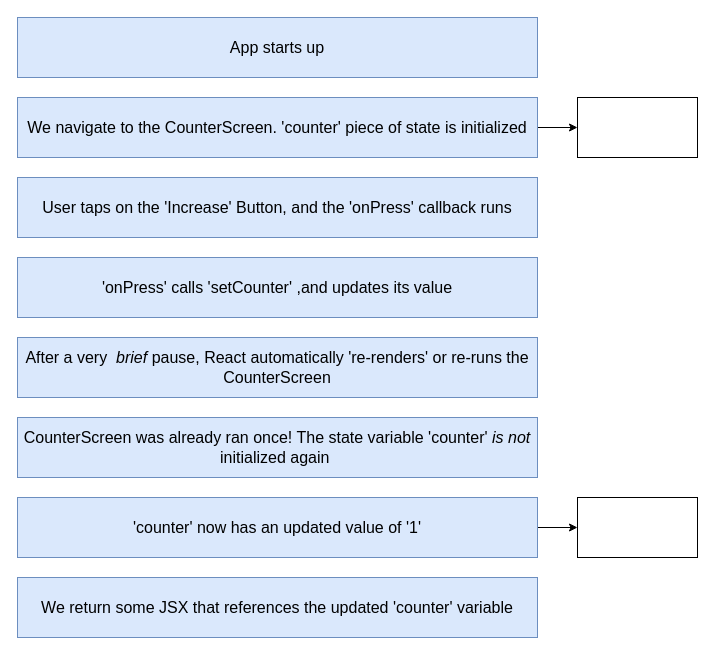
The diagram is 715 pixels wide and 655 high, and some of its shapes have lost their labels. Each missing label, with the box of its shape:
counter: 0: (576, 96, 698, 158)
counter: 1: (576, 496, 698, 558)
